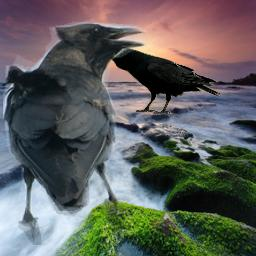Crow: (3, 16, 147, 245), (104, 47, 221, 115)
